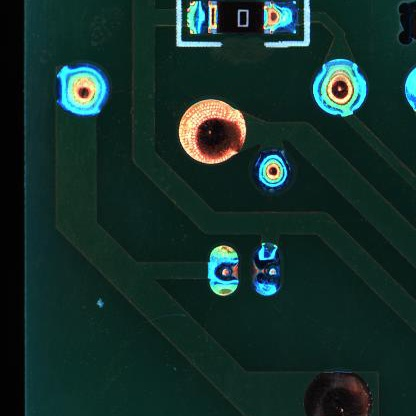spot: (311, 57, 370, 116), (55, 64, 111, 115), (252, 241, 283, 297), (208, 243, 240, 296), (253, 149, 292, 192)
